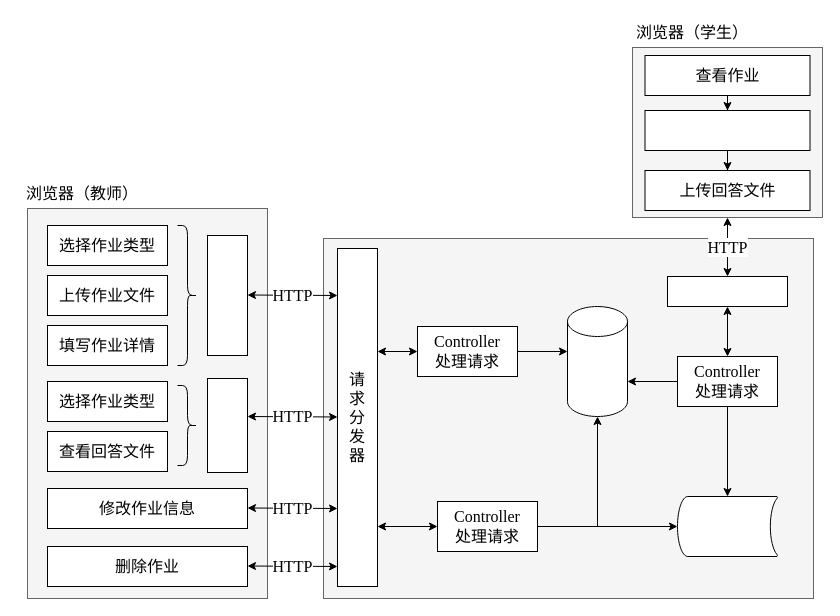
Image size: 840x616. Some labels were removed from this diagram. Each missing label, with the box of its shape:
下载作业文件: (644, 110, 810, 150)
布 置 作 业: (206, 234, 248, 356)
批 改 作 业: (206, 378, 248, 472)
数 据 库: (566, 306, 628, 416)
磁盘: (676, 496, 778, 556)
请求分发器: (666, 276, 788, 306)
